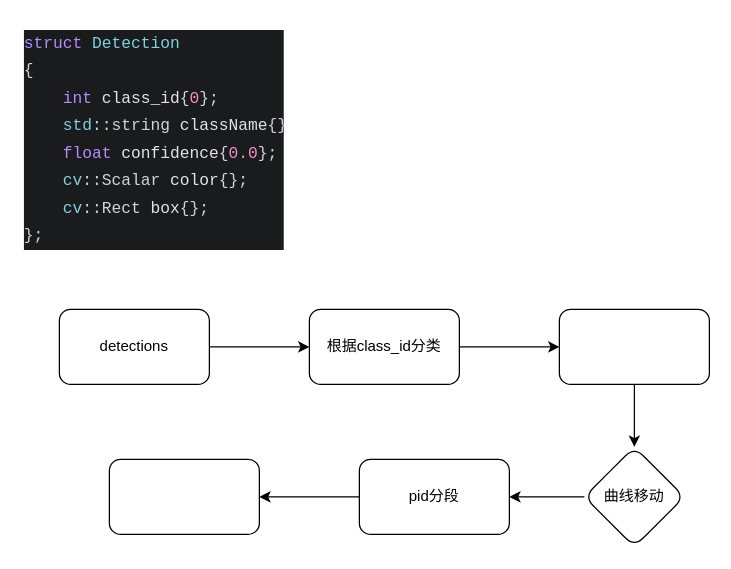
Some shapes in this 731 by 569 pixel diagram are drawn without their labels. The centre of each missing label's shape, as x and y in pixels:
makcu贝塞尔: (183,496)
从分类结果找最近的 （x,y): (633,346)
